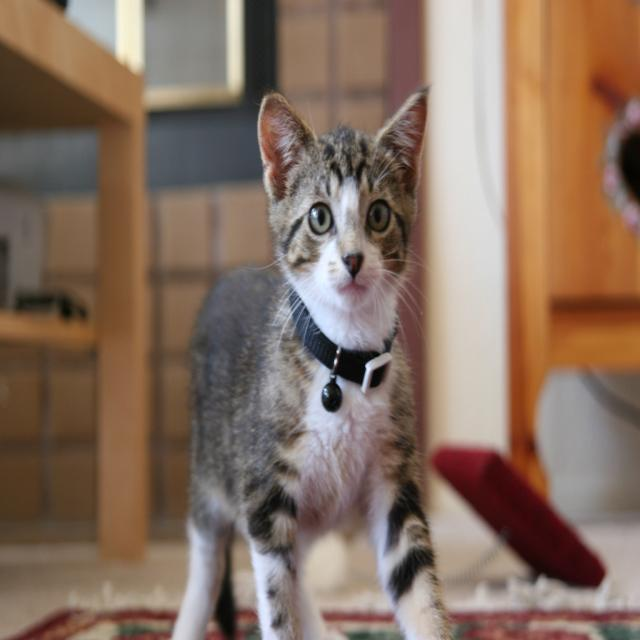cat: (171, 84, 455, 639)
